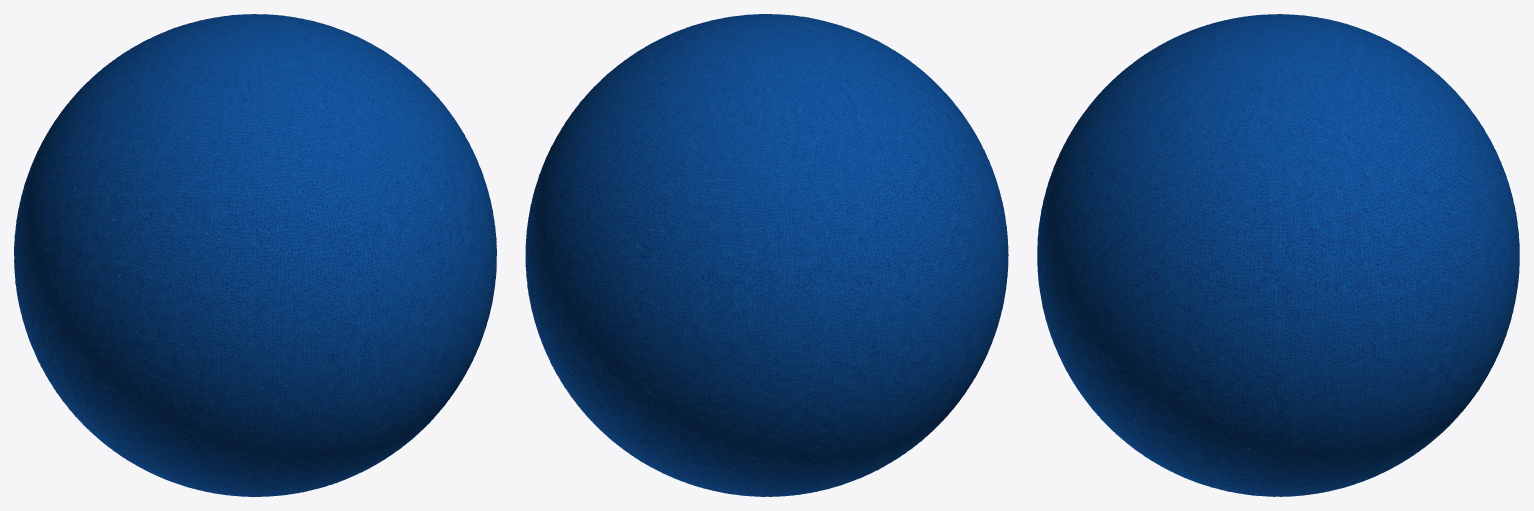
File: terry_cloth_1k.gltf
3 views of the same model, side by side, from view 1: azimuth 30°, elevation 25°; view 2: azimuth 150°, elevation 25°; view 3: azimuth 270°, elevation 25° (orthographic).
Visible parts, largest first — view 1: sphere_gltf; view 2: sphere_gltf; view 3: sphere_gltf.
Boxes of the visible parts, left/top/right/bottom form: sphere_gltf: left=14, top=14, right=496, bottom=496; sphere_gltf: left=525, top=14, right=1008, bottom=496; sphere_gltf: left=1037, top=14, right=1519, bottom=496.
Bounding box in the file's own units: 0.3633 × 0.3632 × 0.3633.
Materials: 1 (1 with a texture image).
